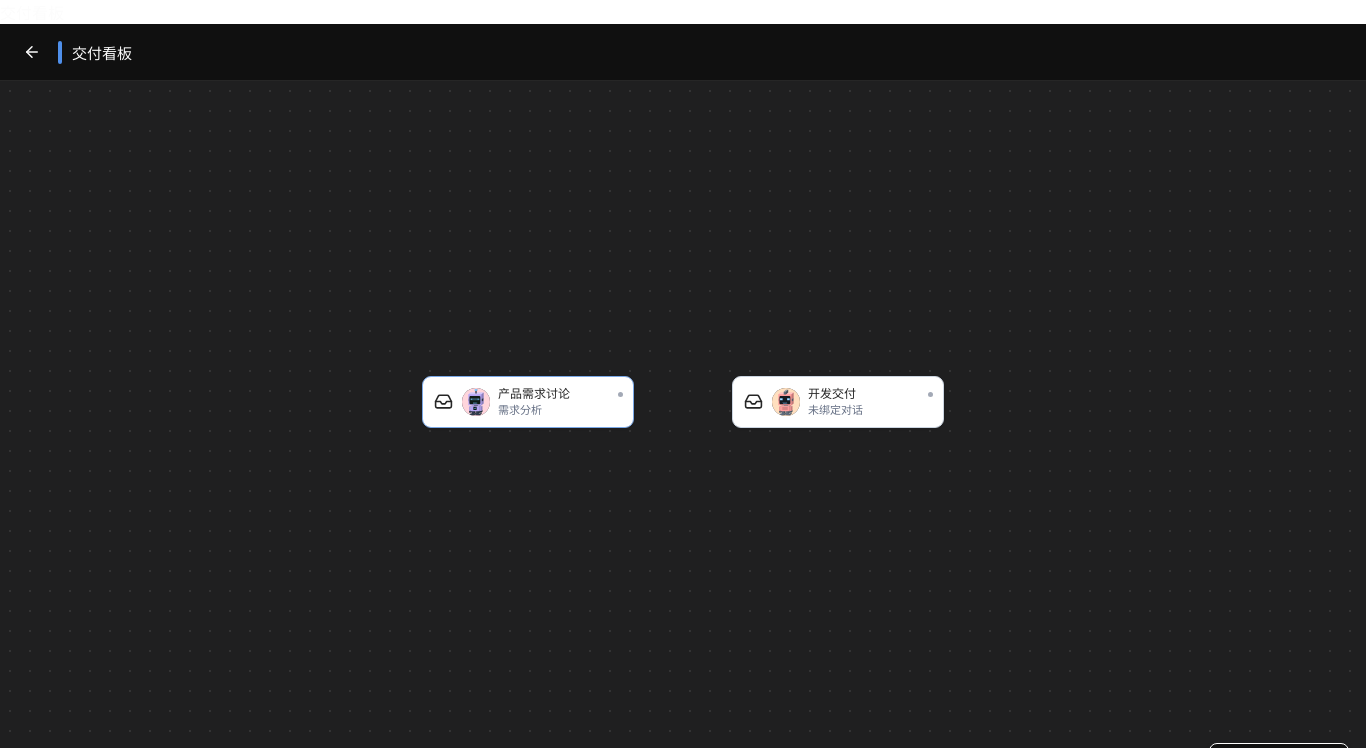
Test case: organization sidebar adapter › keeps the live diagram when conversations update and changes the tab title when returning home
Expected: the text with test id "workflow-tab-title" reads "交付看板", [0, 3, 64, 23]
Step 1. Double-click the button with aria-label "双击打开对话 · 产品需求讨论" → (528, 402), box [422, 376, 634, 428]
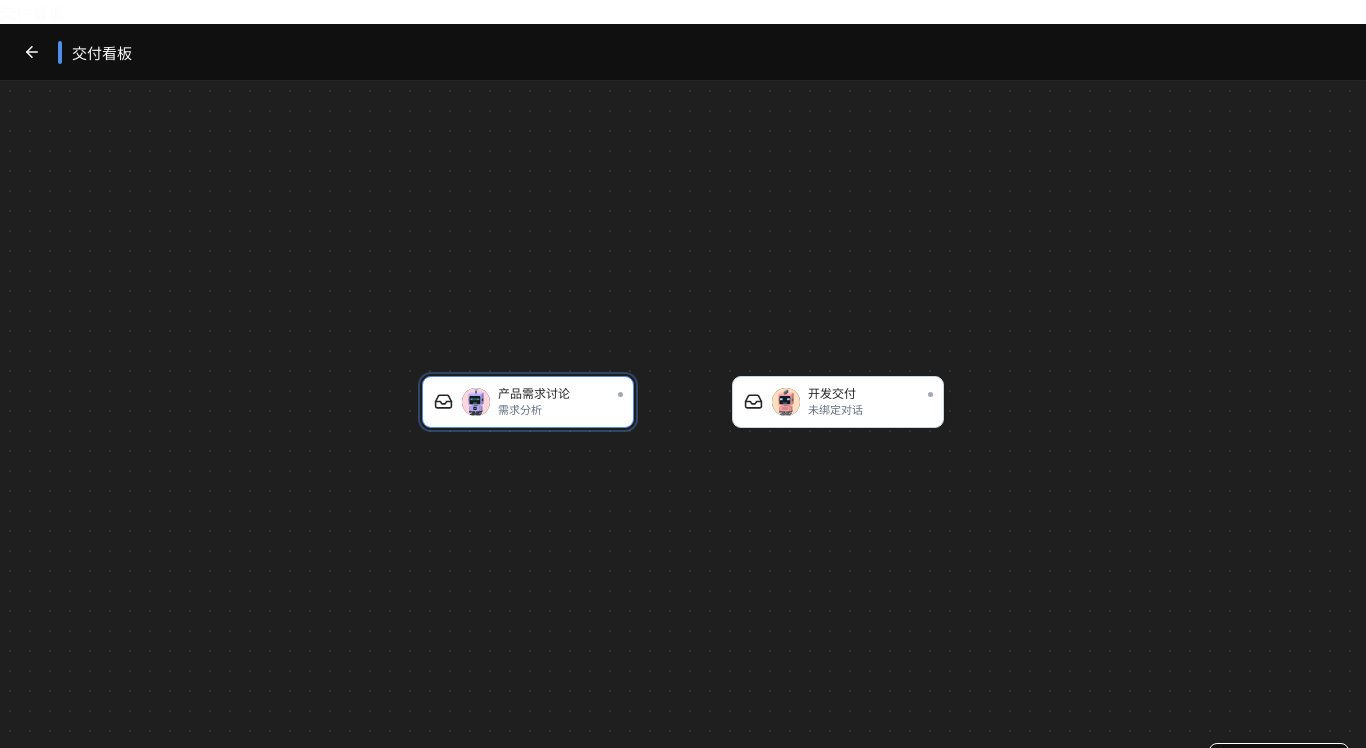
Step 2. Click the button named "返回组织" → (32, 52), box [16, 36, 48, 68]
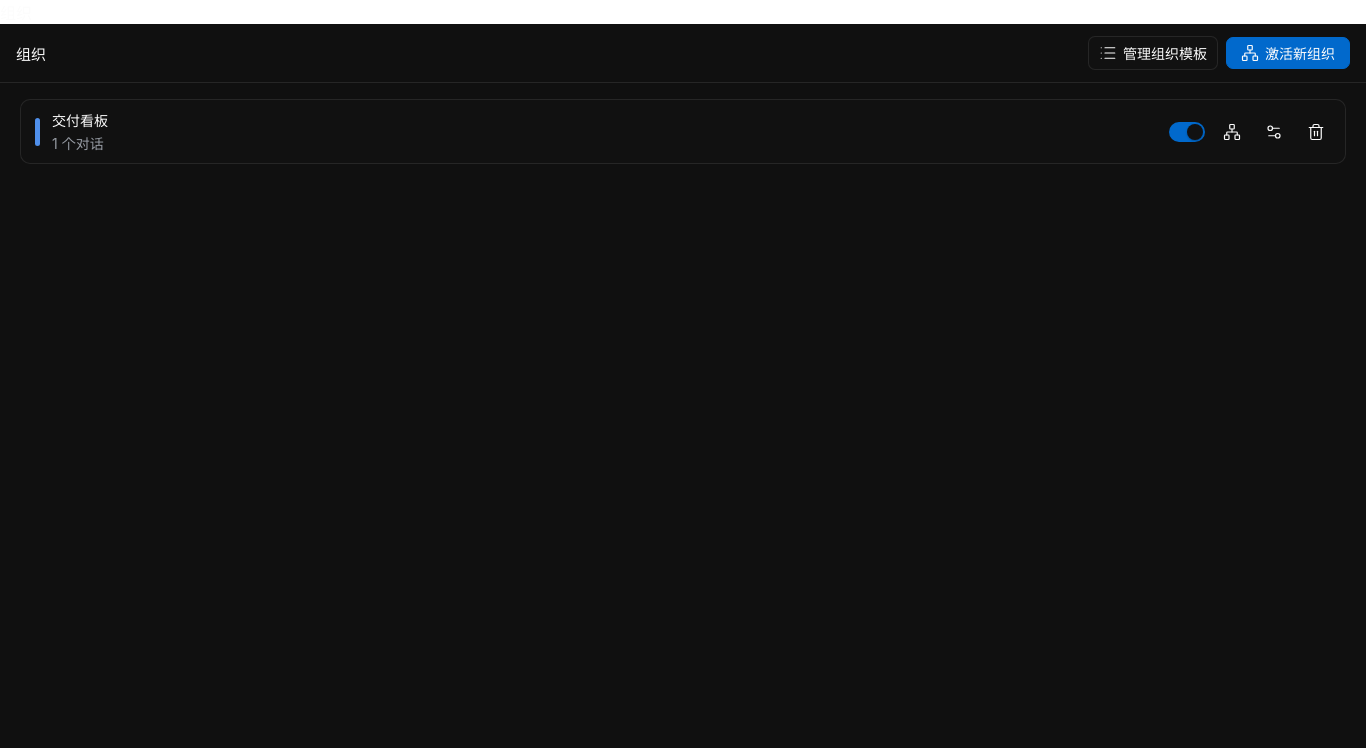
Expected: the text with test id "workflow-tab-title" reads "组织", [0, 3, 32, 23]
Expected: the heading "组织" is shown, [16, 42, 46, 64]
